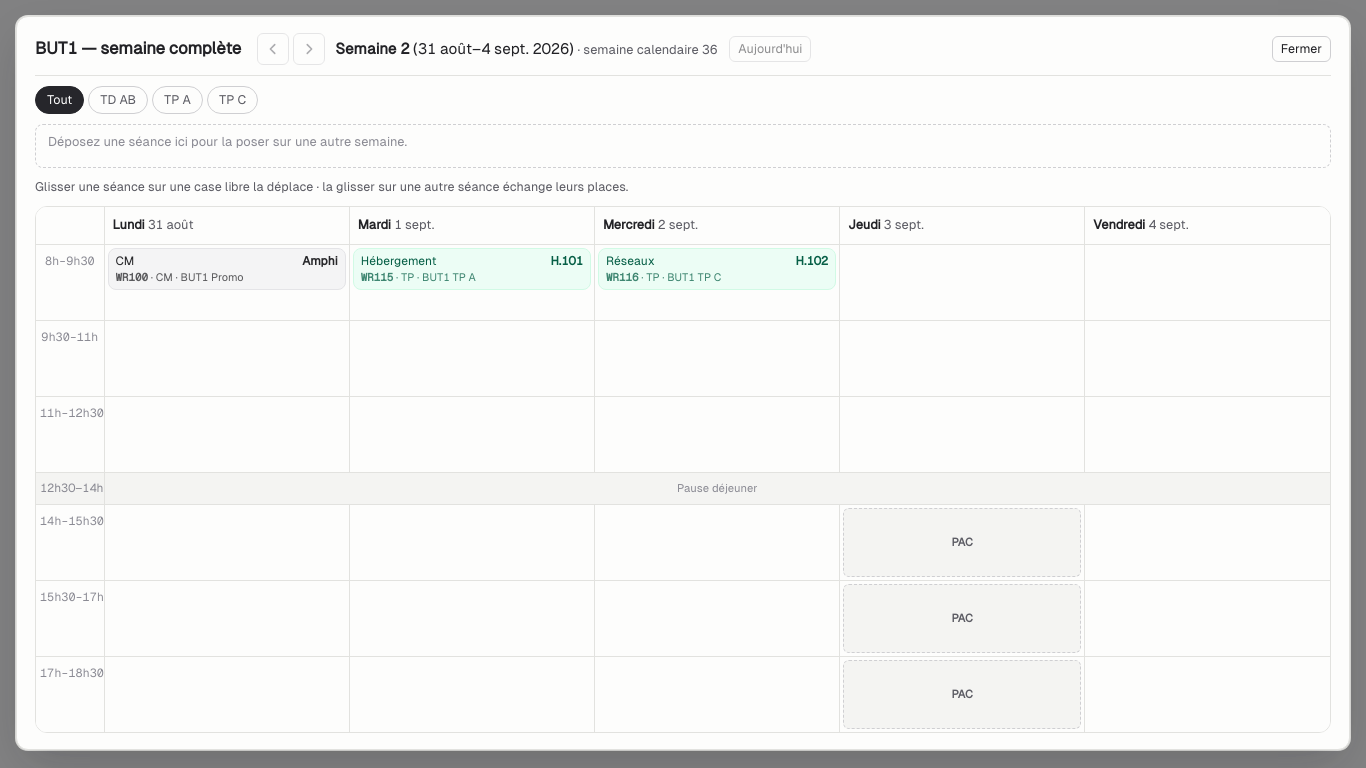
Test case: ParcoursWeekModal group filter › should offer Tout and each TD/TP chip, and hide other TPs when one is selected
Expected: the button "Tout" is shown, x1=35 y1=86 x2=84 y2=114
Expected: the button "TD AB" is shown, x1=88 y1=86 x2=148 y2=114
Click the button "TP A" at (178, 100), box x1=152 y1=86 x2=203 y2=114
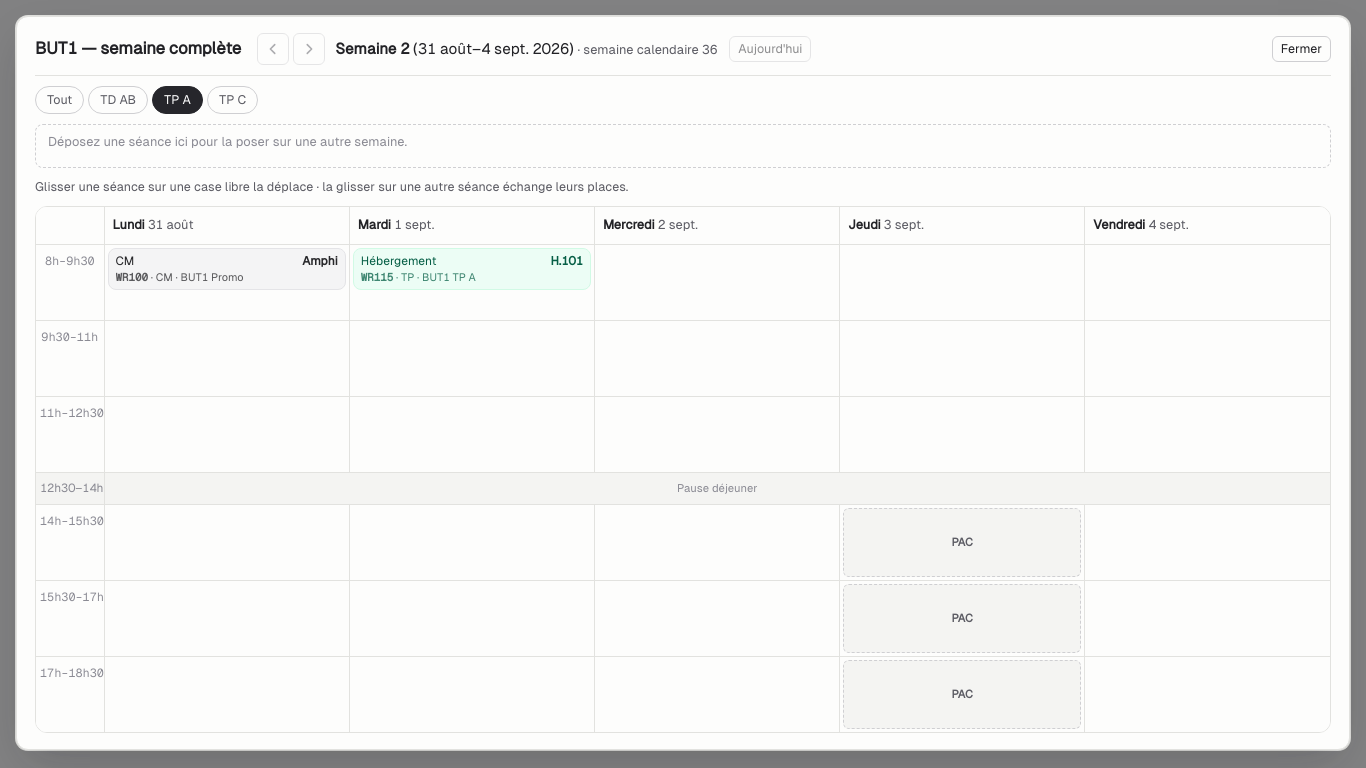
Expected: the text "WR115" is shown, x1=361 y1=270 x2=393 y2=284
Expected: the button "WR116" is gone
